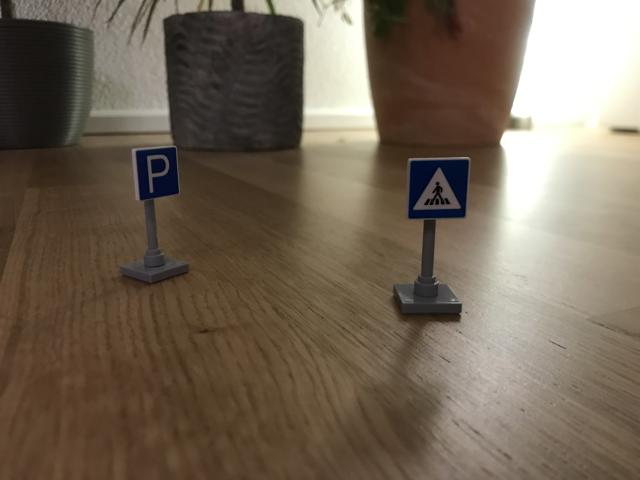fußgängerüberweg: (408, 156, 471, 221)
parken: (132, 142, 184, 203)
